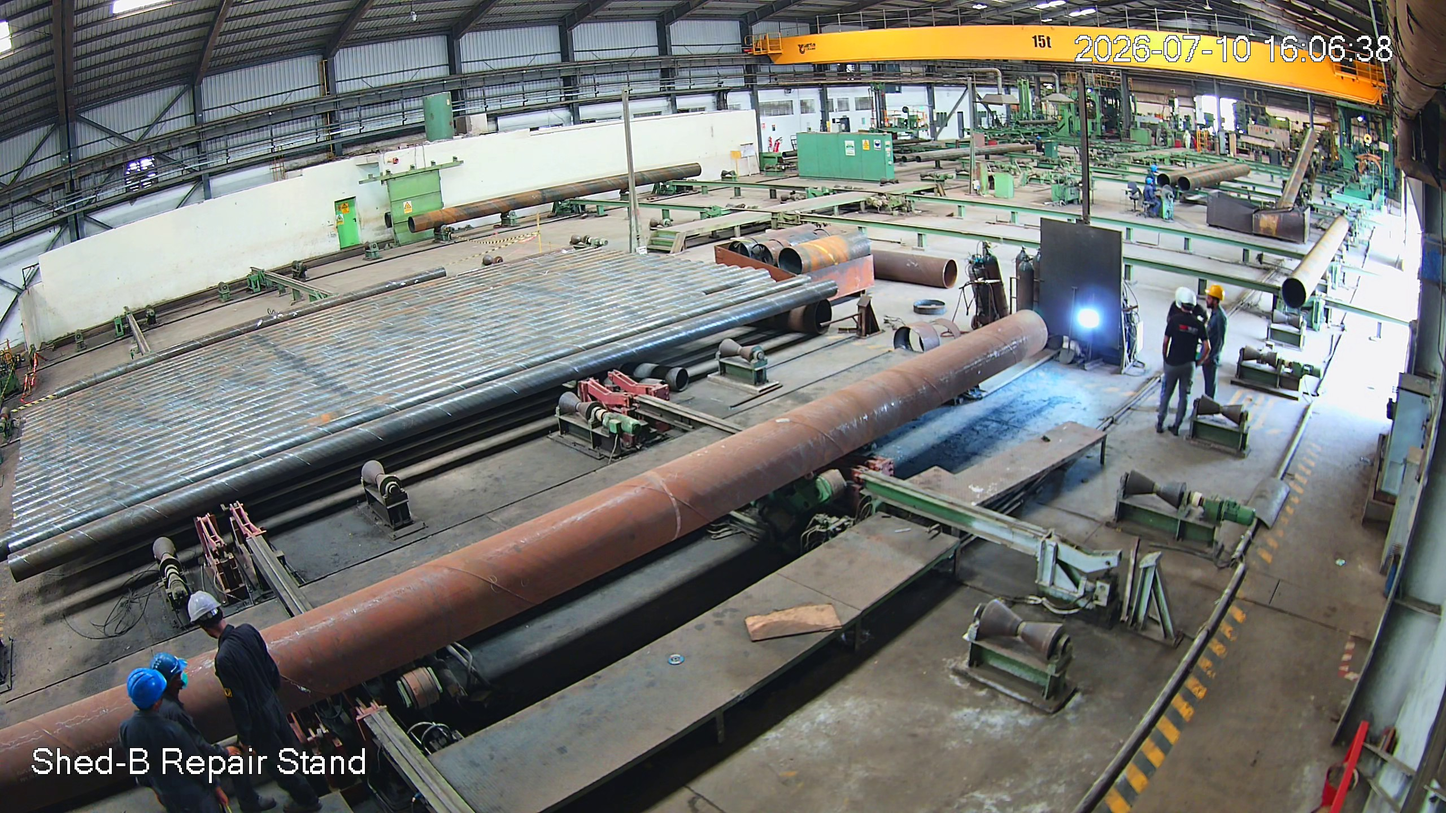Helmet: (178, 584, 238, 642), (119, 657, 172, 718), (1170, 286, 1203, 316), (1203, 281, 1227, 310)
Person: (111, 660, 239, 813), (162, 606, 252, 813), (1163, 288, 1206, 428), (1201, 284, 1232, 412)
